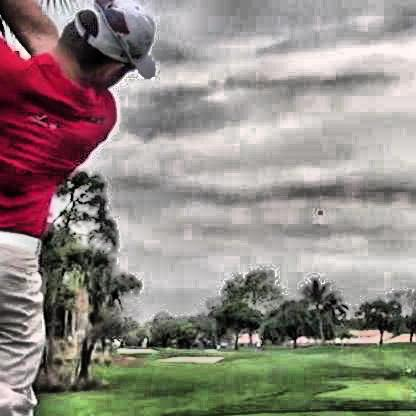golfball: (314, 207, 319, 213)
